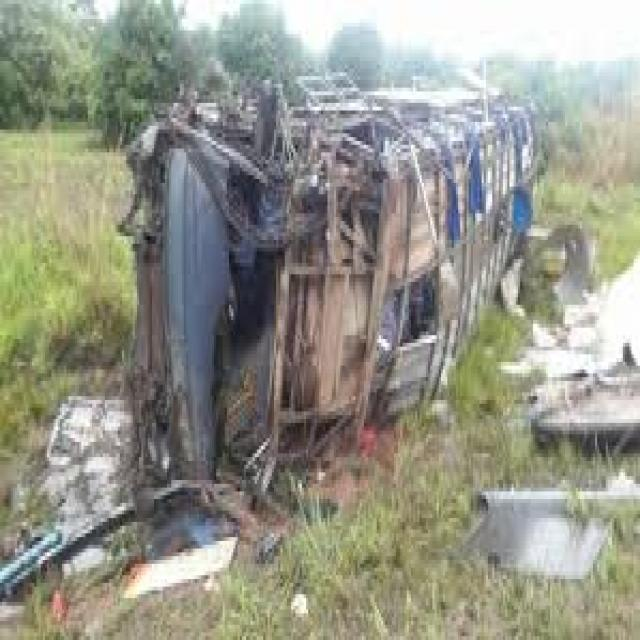accident: (90, 41, 534, 552)
